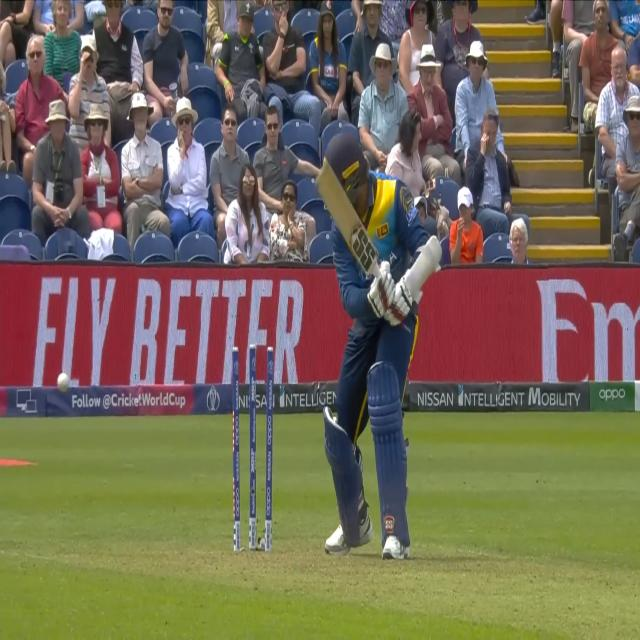ball: (54, 368, 73, 394)
